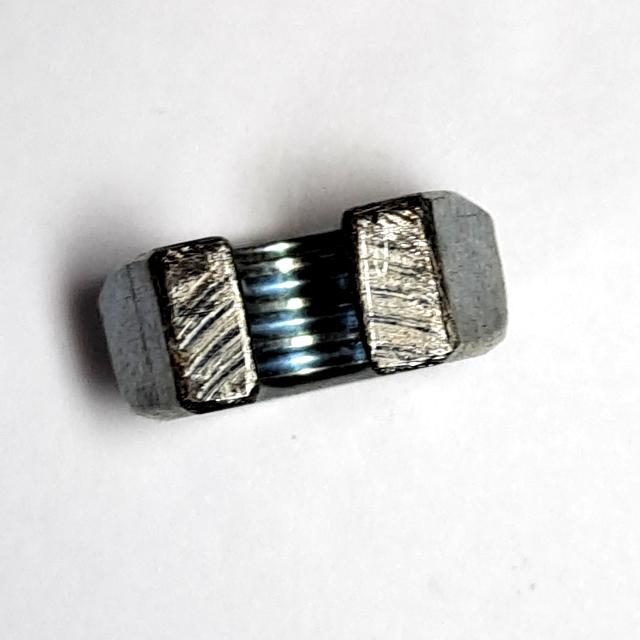Side-Fracture: (87, 175, 524, 436)
